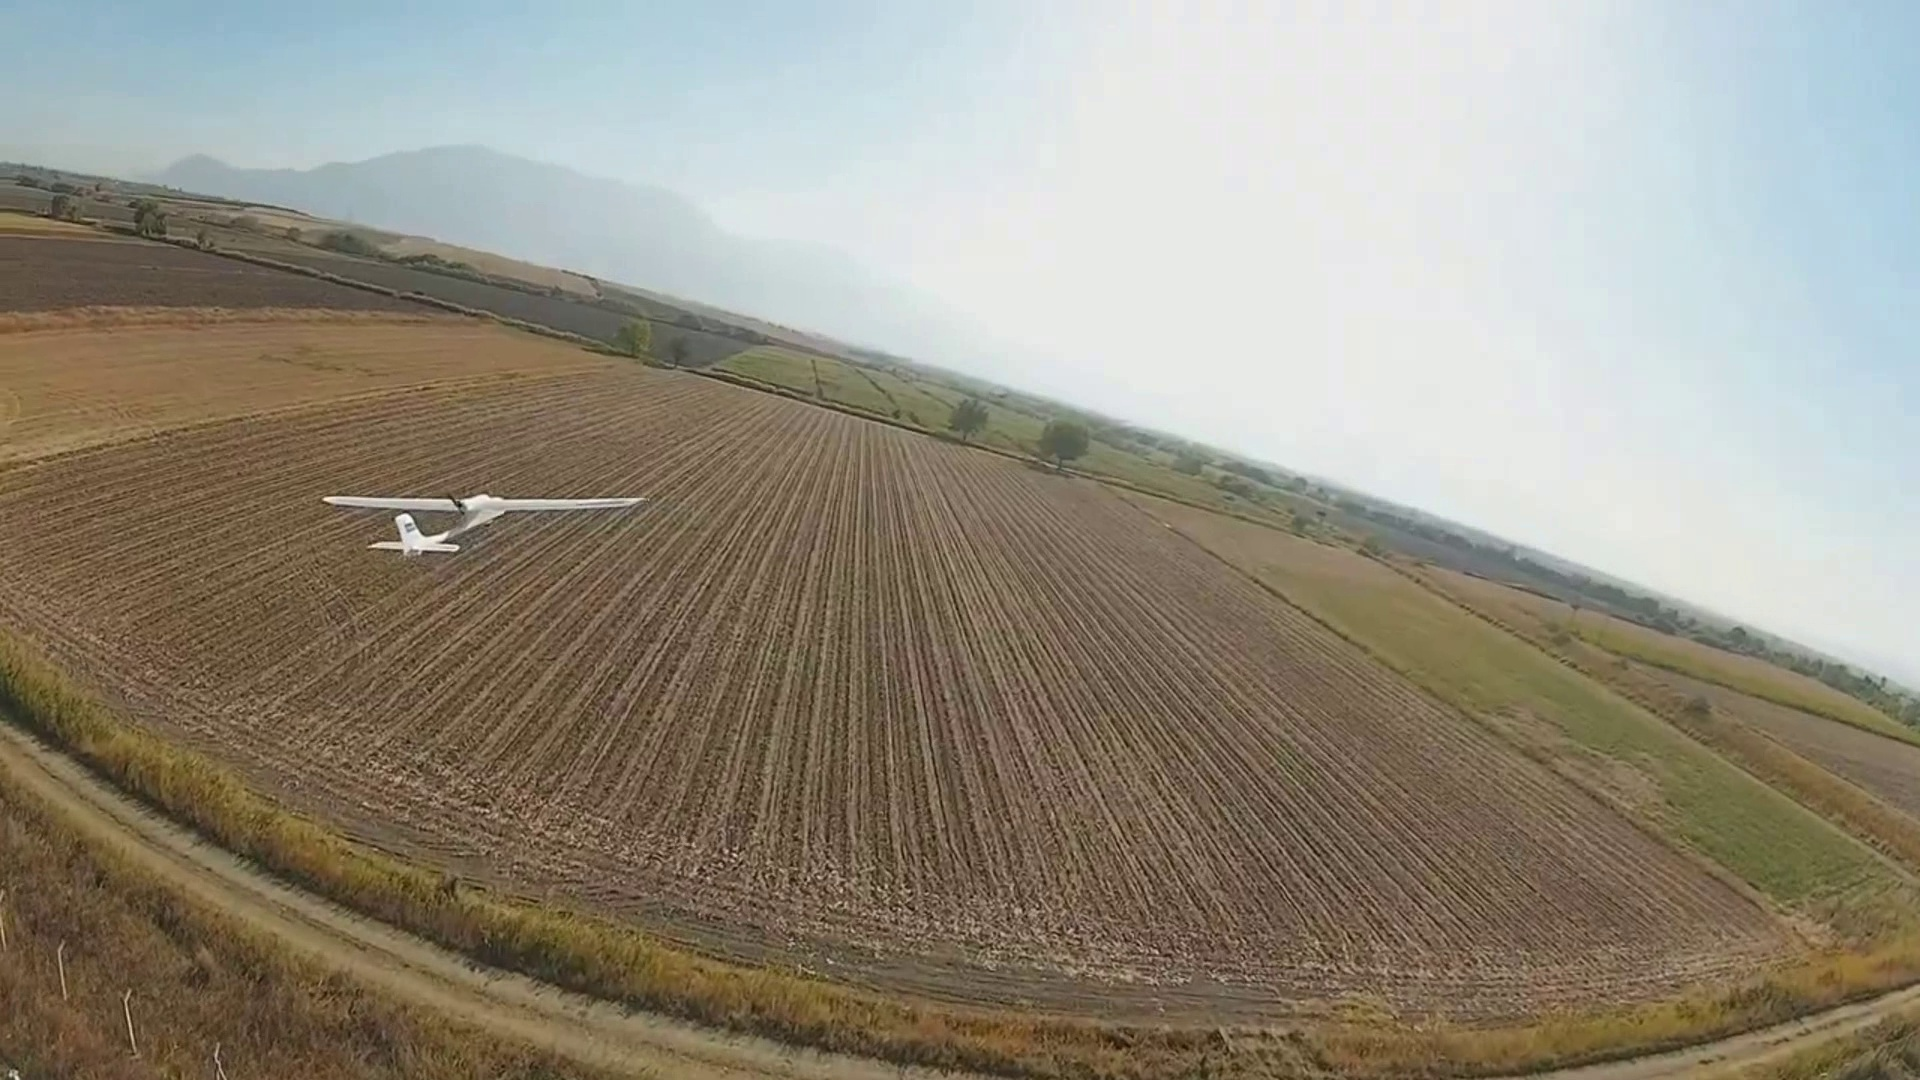airplane: (322, 483, 652, 562)
